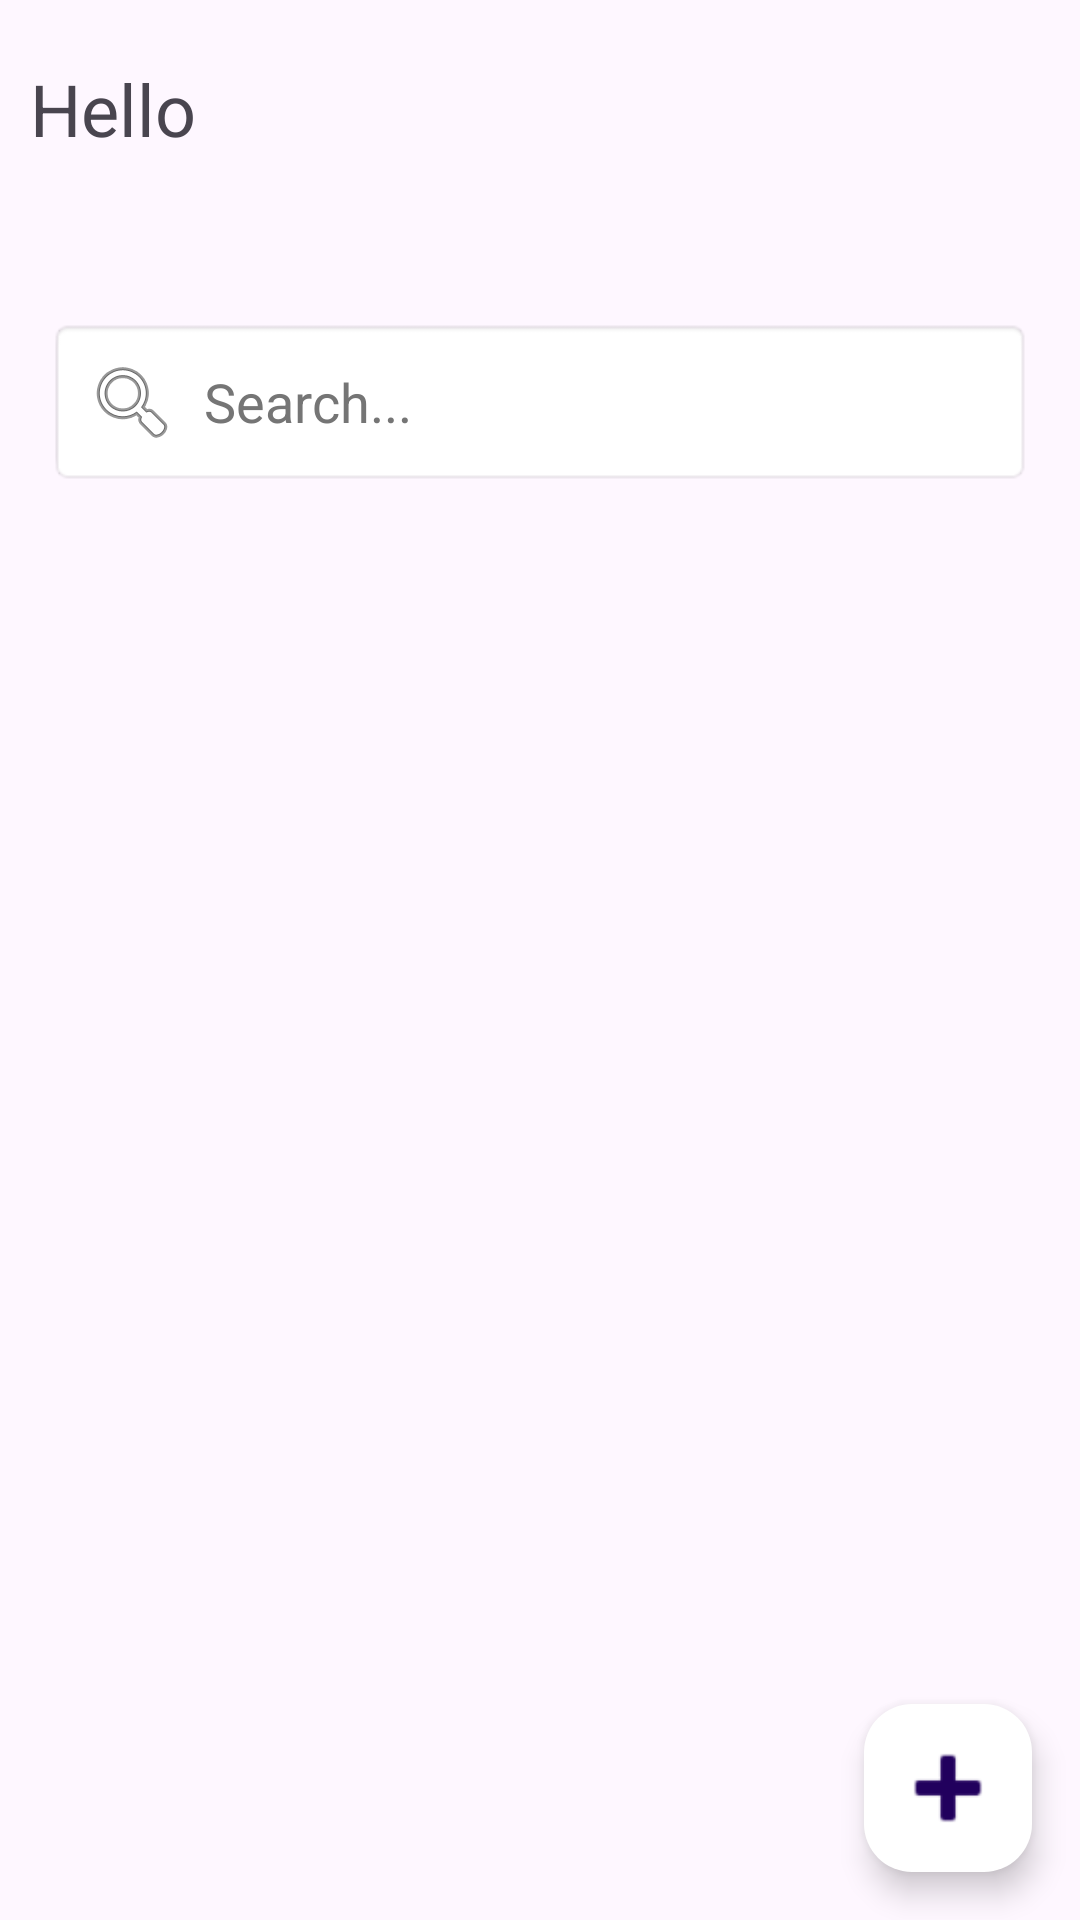

Icon click points for this 1080 x 1920 phone screenshot, format (x,y):
add: (948,1788)
